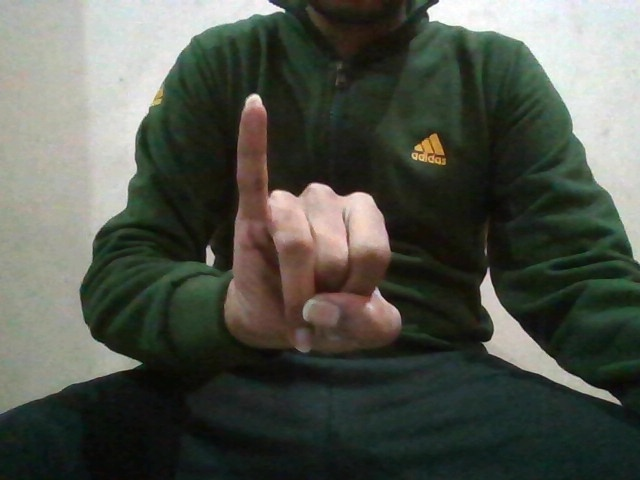I: (218, 91, 413, 368)
